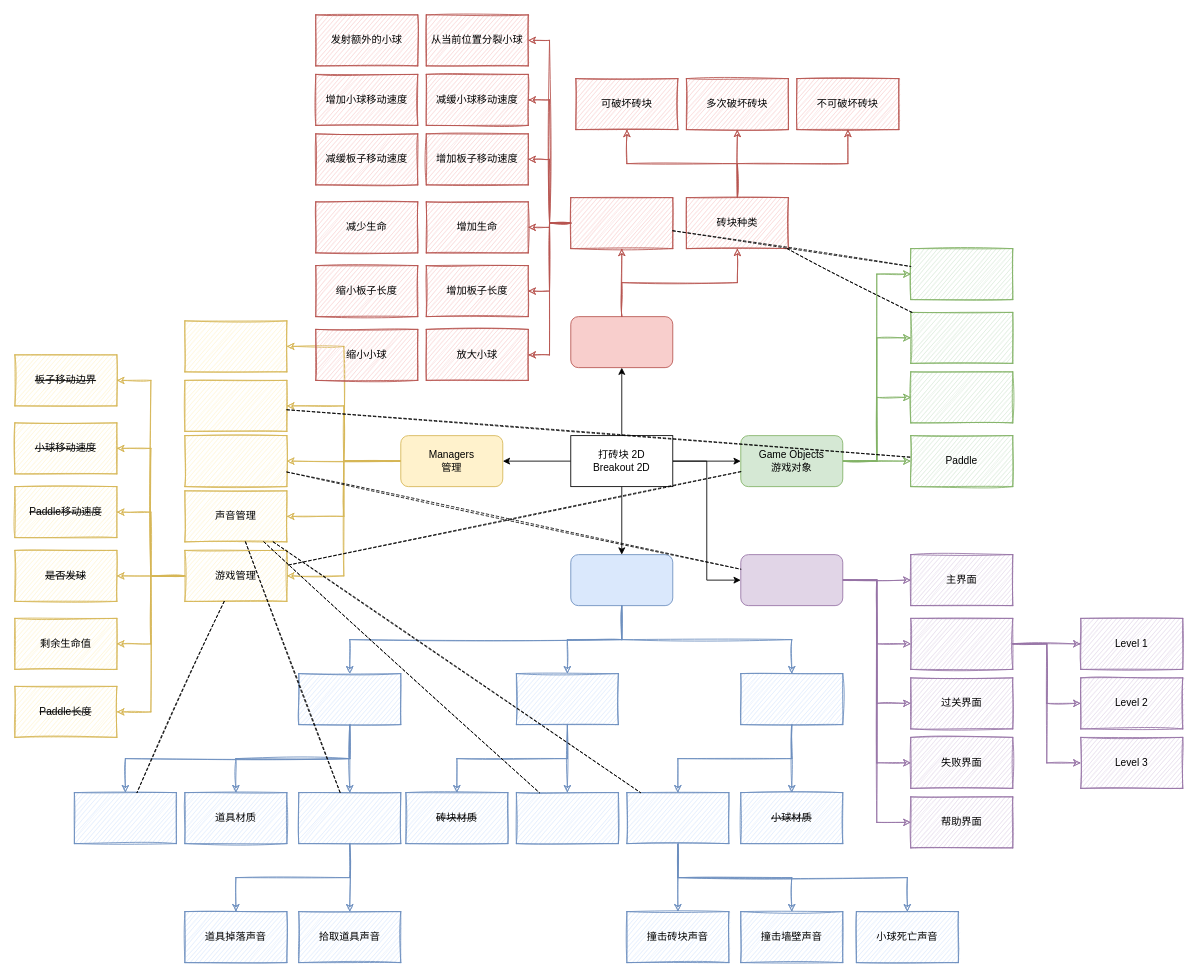
This 1198x978 diagram has some shape labels left out. Here are the shapes that lost their labels. From the top down, the centre of each, then its label:
At (x=621, y=223): "道具种类".
At (x=961, y=274): "道具".
At (x=235, y=346): "地图生成".
At (x=621, y=342): "Enums 枚举".
At (x=961, y=337): "砖块".
At (x=235, y=405): "输入管理".
At (x=961, y=397): "小球".
At (x=235, y=461): "UI 管理".
At (x=621, y=580): "DataObjects (Non MonoBehaviour)".
At (x=791, y=580): "UI 游戏界面".
At (x=961, y=643): "关卡界面".
At (x=349, y=699): "道具类".
At (x=567, y=699): "砖块类".
At (x=791, y=699): "小球类".
At (x=125, y=818): "道具效果".
At (x=349, y=818): "道具声音".
At (x=567, y=818): "砖块破坏声音".
At (x=677, y=818): "小球声音".
